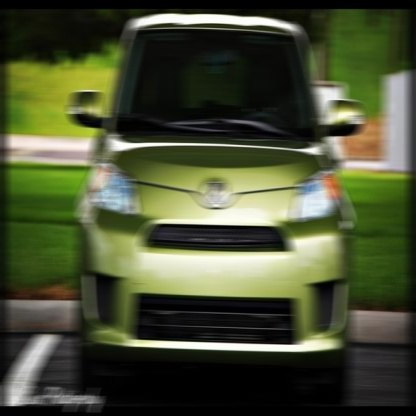Vehicle: (65, 14, 368, 401)
